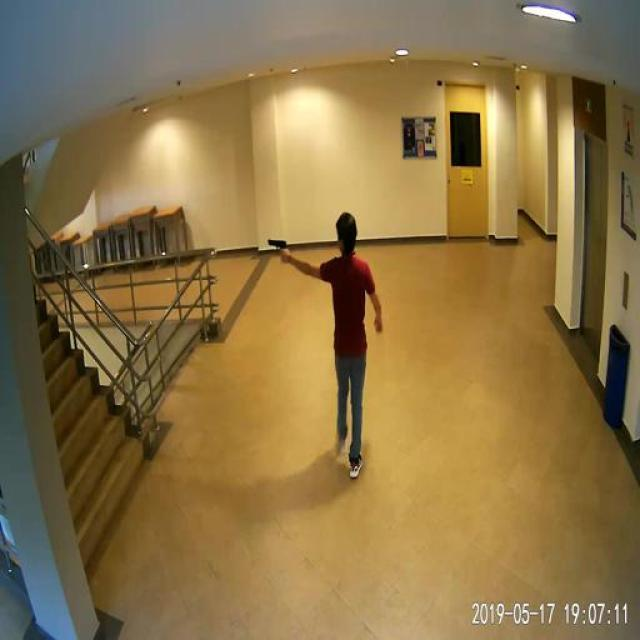Gun: (267, 228, 301, 272)
